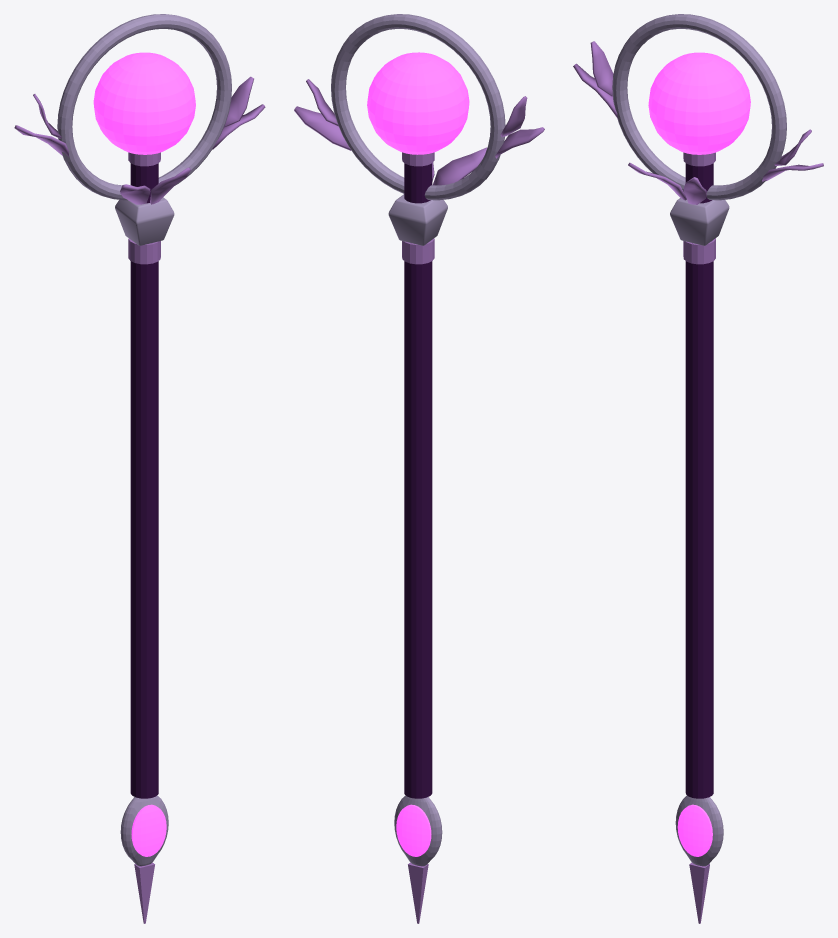
Rendered from baculo.fbx.
The picture shows the model from 3 angles, left to right: view 1: azimuth 30°, elevation 25°; view 2: azimuth 150°, elevation 25°; view 3: azimuth 330°, elevation 25°; orthographic projection.
Visible parts, largest first — view 1: Baculo; view 2: Baculo; view 3: Baculo.
Part boxes in pixels (x1,y1,x2,y2): Baculo: [14, 14, 265, 923]; Baculo: [294, 14, 544, 923]; Baculo: [573, 14, 823, 923].
Bounding box in the file's own units: 259 × 900 × 93.42.
